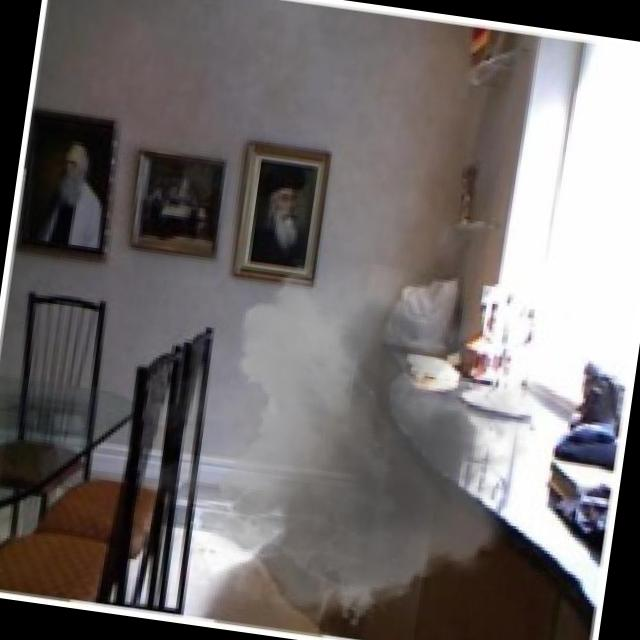Smoke: (118, 233, 576, 640)
